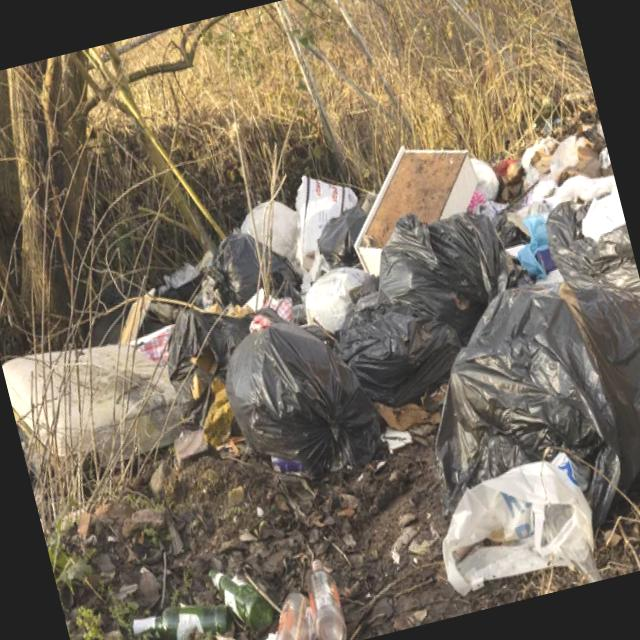garbage: (12, 63, 640, 635)
